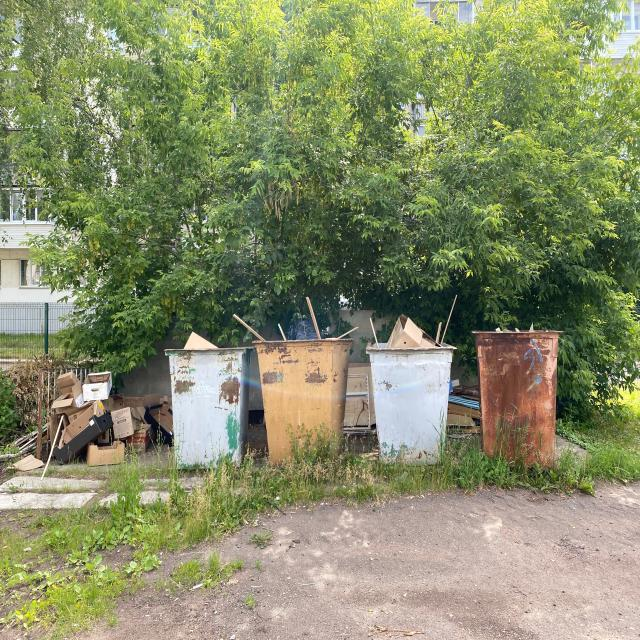bin: (472, 332, 559, 464), (255, 338, 349, 456), (168, 350, 254, 468), (368, 348, 453, 464)
plastic: (35, 366, 172, 463), (232, 308, 359, 339), (369, 315, 452, 347), (343, 363, 370, 430), (449, 381, 480, 439), (182, 330, 225, 348)
